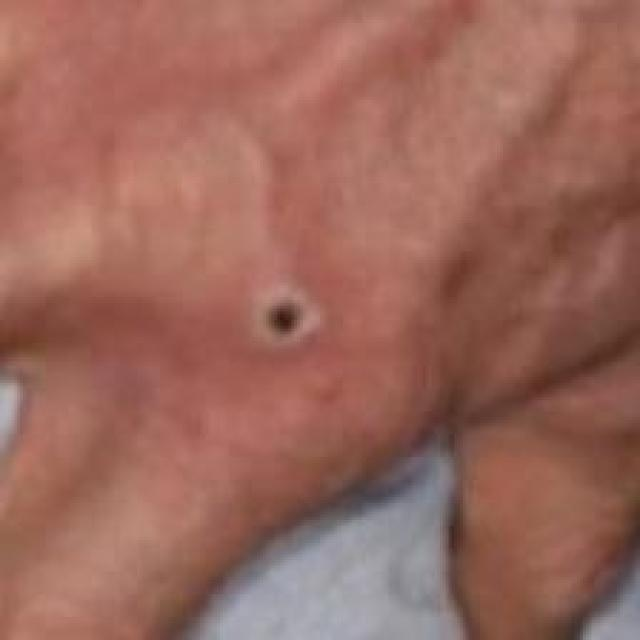monkeypox: (84, 82, 449, 464)
